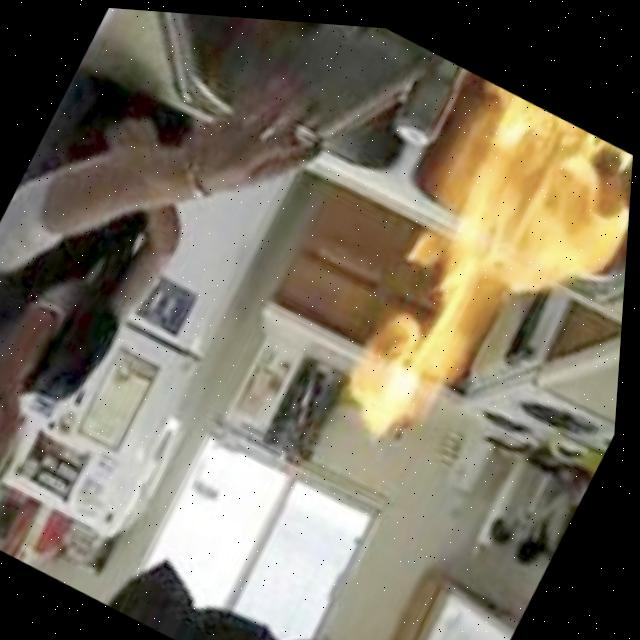Fire: (395, 67, 638, 339), (331, 235, 519, 467)
